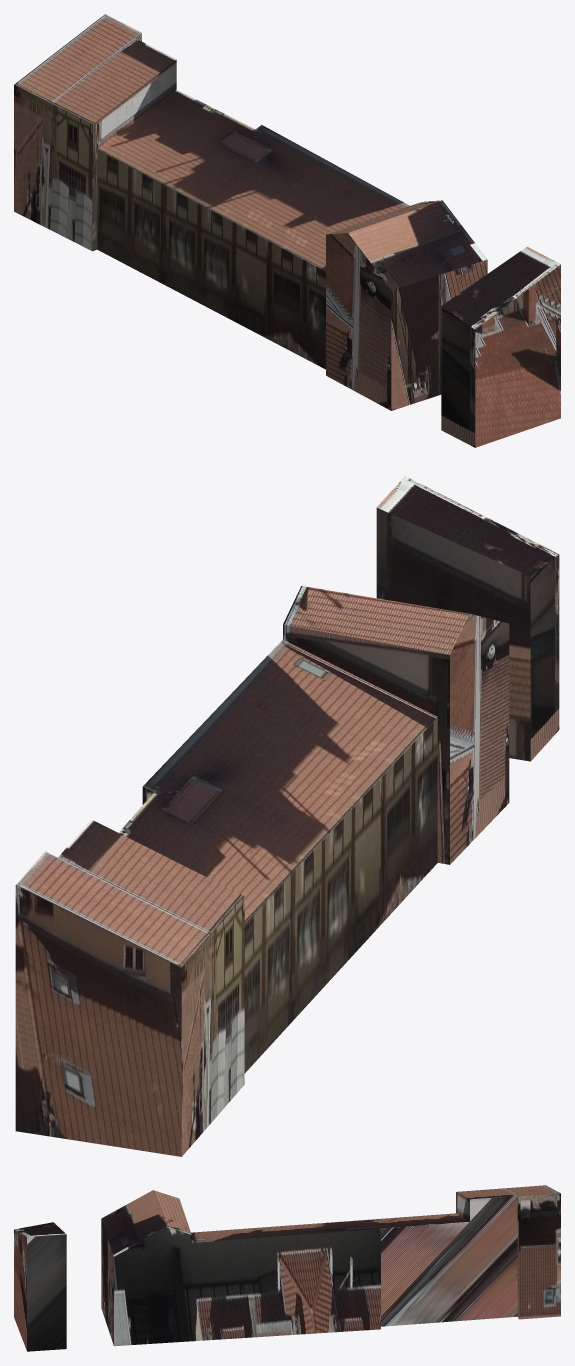
3 renders of one model, top to bottom at view 1: azimuth 30°, elevation 25°; view 2: azimuth 150°, elevation 25°; view 3: azimuth 270°, elevation 25°, orthographic. The views are drawn at different scales.
Visible parts, largest first — view 1: Z_UP; view 2: Z_UP; view 3: Z_UP.
Part boxes in pixels (x1,y1,x2,y2): Z_UP: (14, 14, 560, 447); Z_UP: (15, 476, 559, 1156); Z_UP: (14, 1185, 560, 1351).
Bounding box in the file's own units: 15.74 × 12.54 × 50.52.
Materials: 2 (1 with a texture image).
